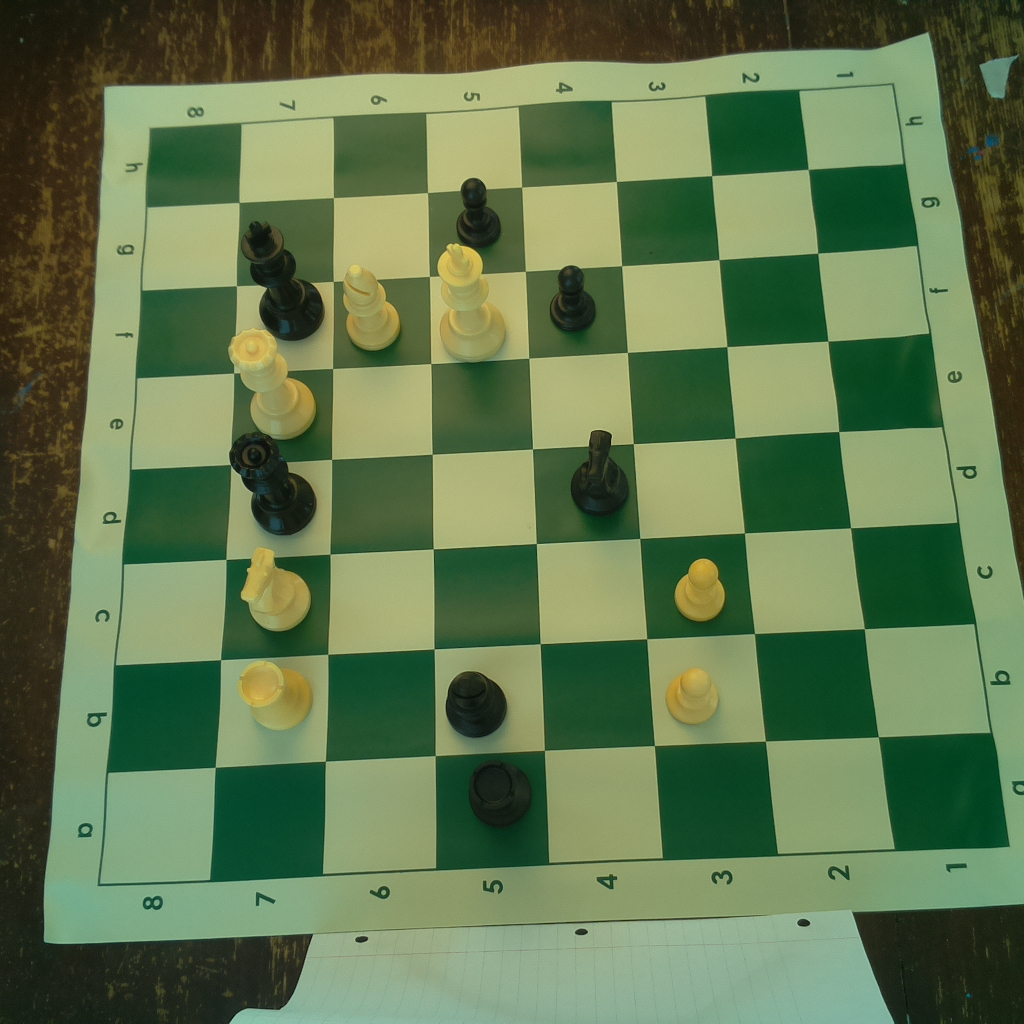black_bishop: (442, 667, 514, 738)
black_king: (238, 218, 327, 338)
black_knight: (562, 425, 633, 521)
black_pawn: (544, 264, 605, 336), (451, 171, 505, 249)
black_queen: (228, 431, 319, 541)
black_rook: (466, 757, 540, 831)
file_a: (97, 731, 1008, 884)
file_b: (106, 622, 996, 773)
file_c: (116, 523, 975, 666)
file_d: (123, 426, 962, 564)
file_e: (133, 331, 942, 471)
file_f: (136, 245, 928, 377)
file_g: (138, 165, 919, 291)
file_h: (145, 83, 905, 209)
outline: (97, 83, 1007, 884)
rank_1: (798, 83, 1008, 851)
rank_2: (705, 90, 897, 853)
rank_3: (612, 97, 779, 860)
rank_4: (518, 100, 667, 867)
rank_5: (428, 105, 550, 871)
rank_6: (319, 112, 438, 873)
rank_7: (208, 118, 334, 884)
rank_8: (98, 123, 242, 884)
white_bishop: (337, 260, 401, 353)
white_king: (428, 235, 510, 366)
white_knight: (233, 545, 314, 634)
white_pawn: (671, 552, 729, 626), (662, 661, 725, 727)
white_queen: (223, 325, 318, 436)
white_rook: (233, 656, 319, 731)
